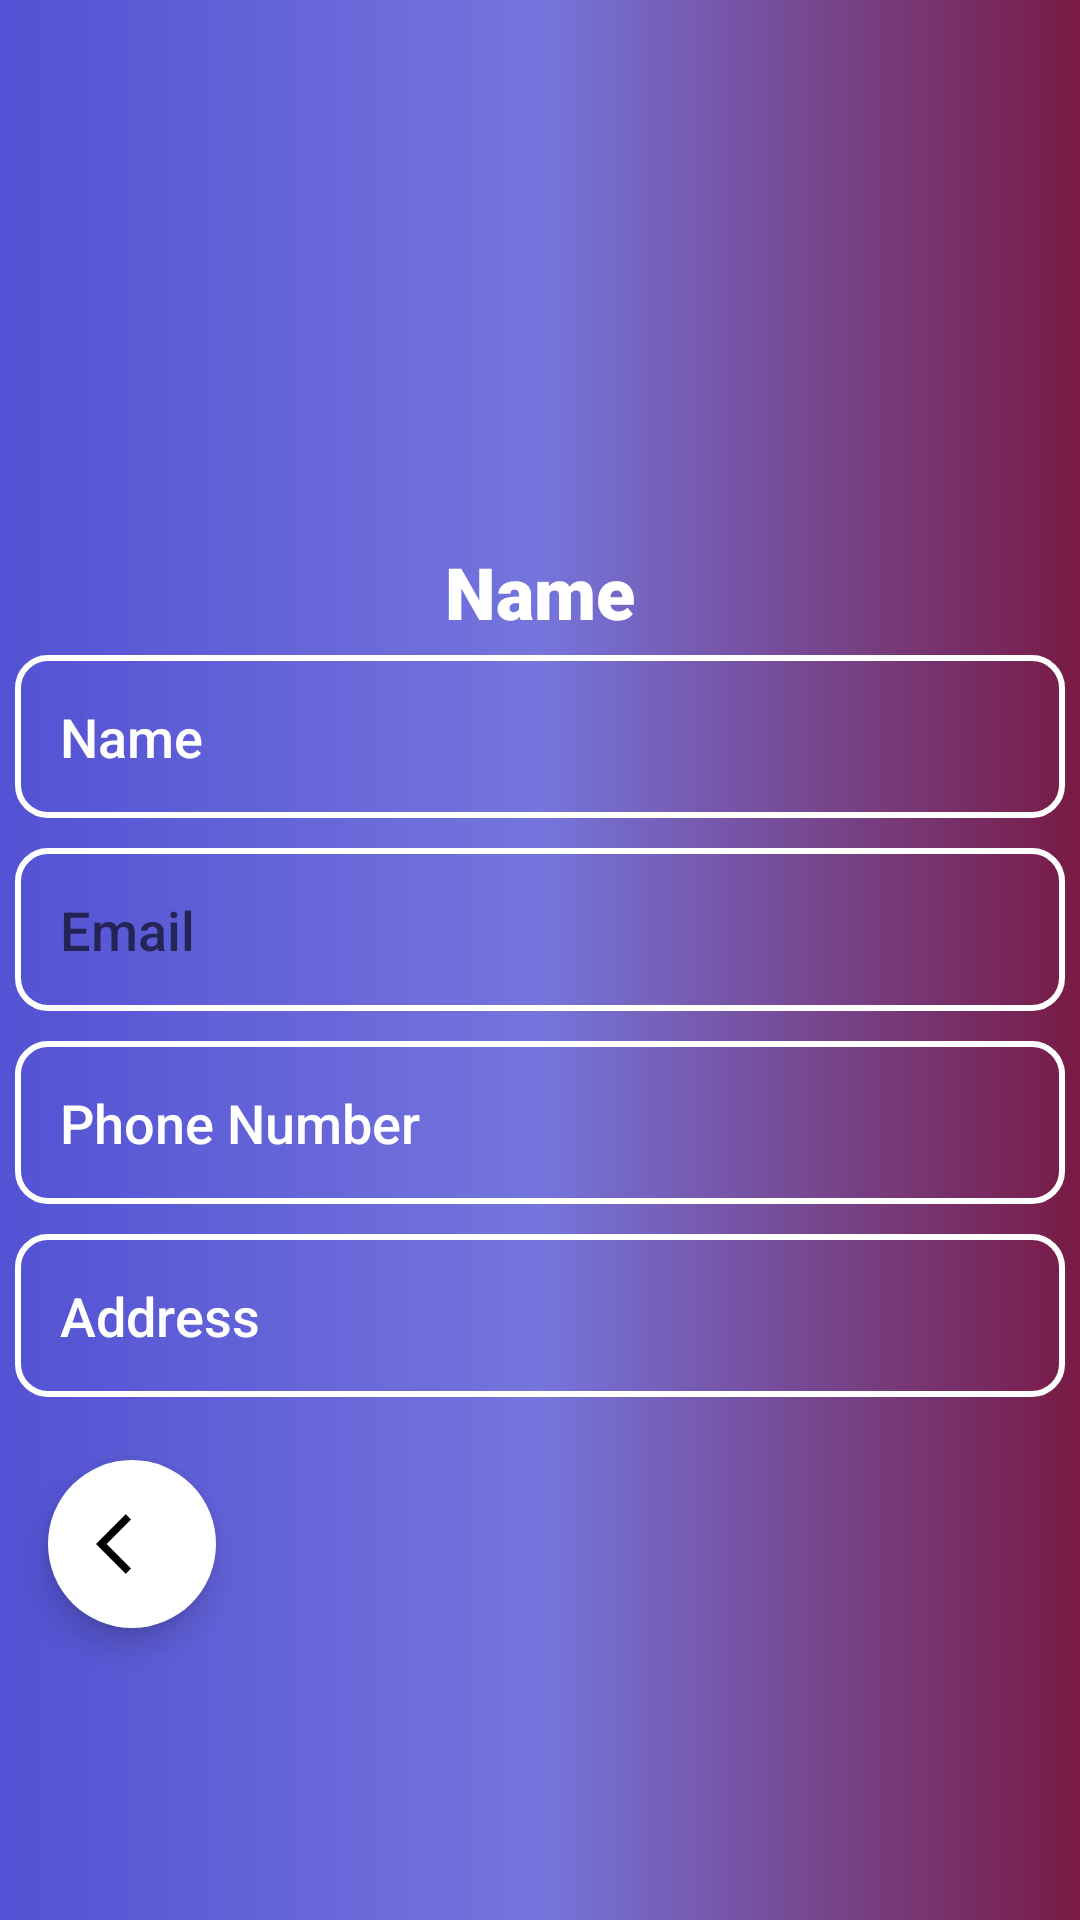

Icons on this 1080px×1920px Android screen, each with its box as box(x1, y1, x2, y2):
arrow back: box(48, 1460, 216, 1628)
